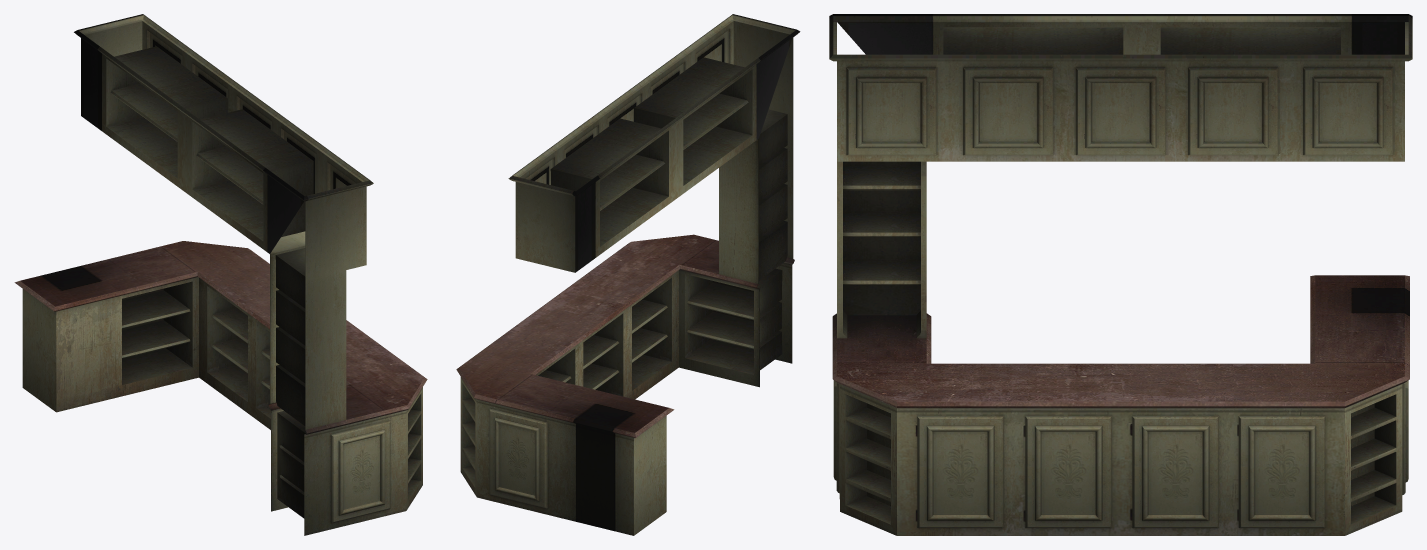
Rendered from bakery_counter1.glb.
3 renders of one model, left to right at view 1: azimuth 30°, elevation 25°; view 2: azimuth 150°, elevation 25°; view 3: azimuth 270°, elevation 25°, orthographic. The views are drawn at different scales.
Parts seen in each view (by area): view 1: bakery_counter1; view 2: bakery_counter1; view 3: bakery_counter1.
Boxes of the visible parts, x1=… form: bakery_counter1: x1=14, y1=14, x2=427, y2=535; bakery_counter1: x1=456, y1=14, x2=800, y2=535; bakery_counter1: x1=829, y1=14, x2=1412, y2=535.
Bounding box in the file's own units: 1.57 × 2.44 × 2.97.
1 material, 1 textured.
